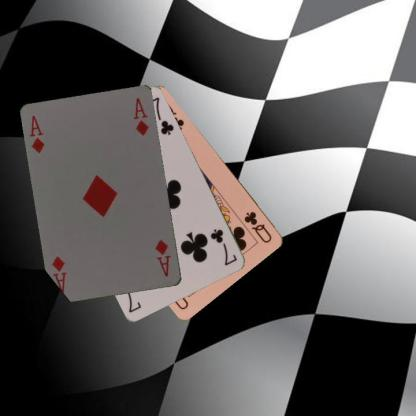7c: (208, 226, 239, 267)
Ad: (27, 113, 47, 155), (153, 237, 172, 278)
Qc: (241, 209, 274, 244)
